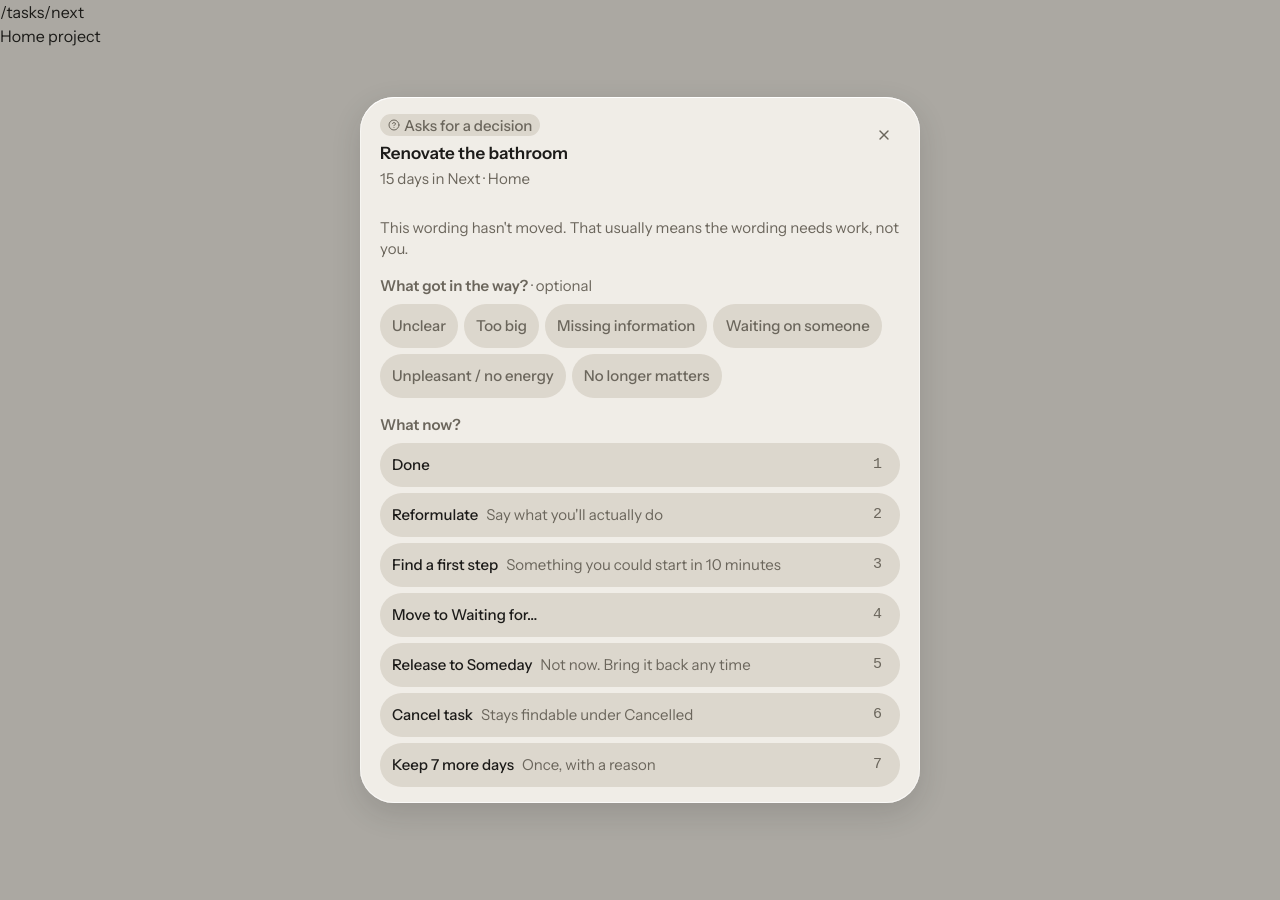
Test: 020-FR-006 decision dialog: the card › 020-FR-007 a reason recommends a decision without disabling any, and a second press clears it
Click the button "Too big": (501, 326) [464,304,539,348]
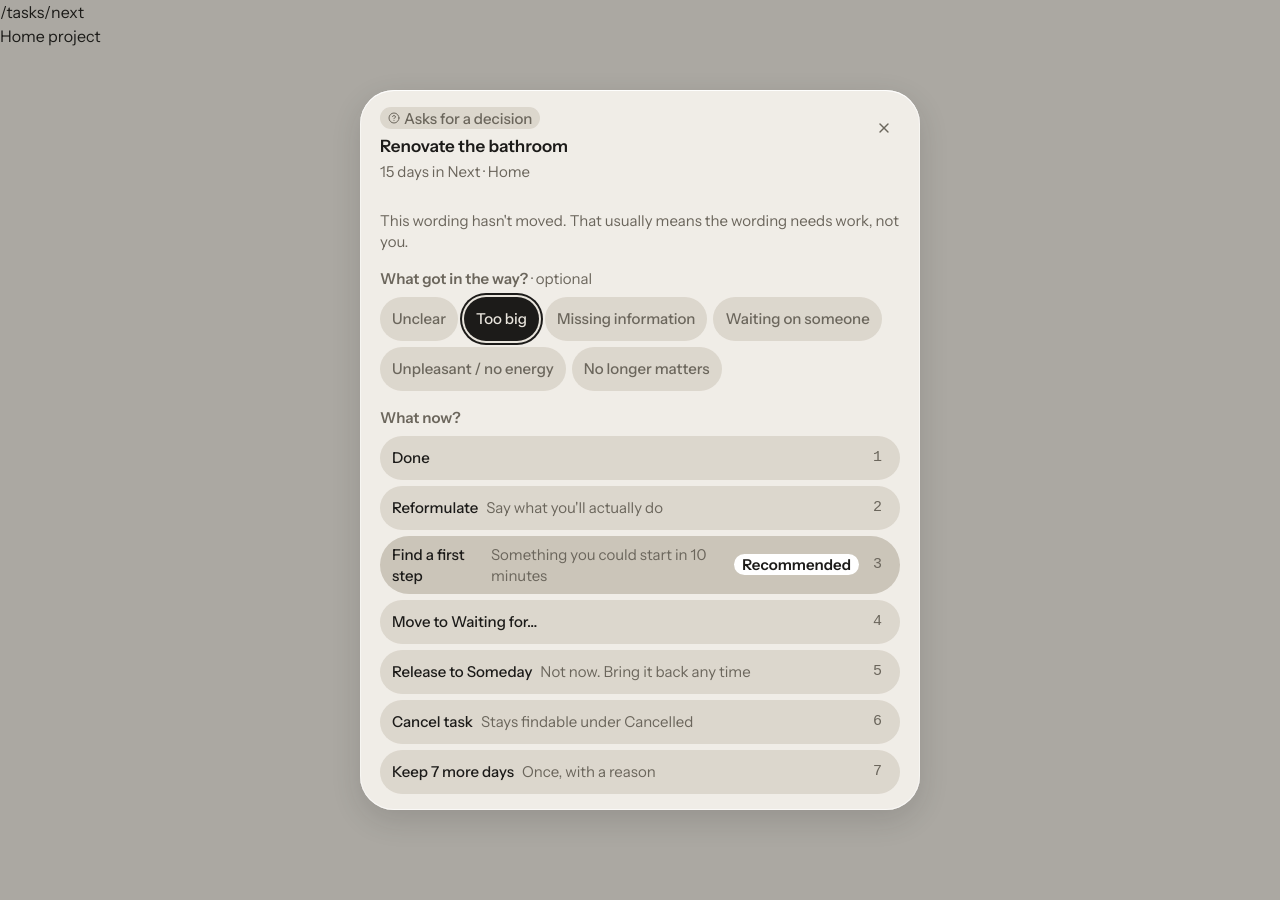
Check: the button "Done 1" is enabled, box [380,436,900,480]
Check: the button "Find a first step" shows "Recommended", box [380,536,900,594]
Check: the text "Recommended" is shown once, box [734,554,859,575]
Click the button "No longer matters": (647, 369) [572,347,722,391]
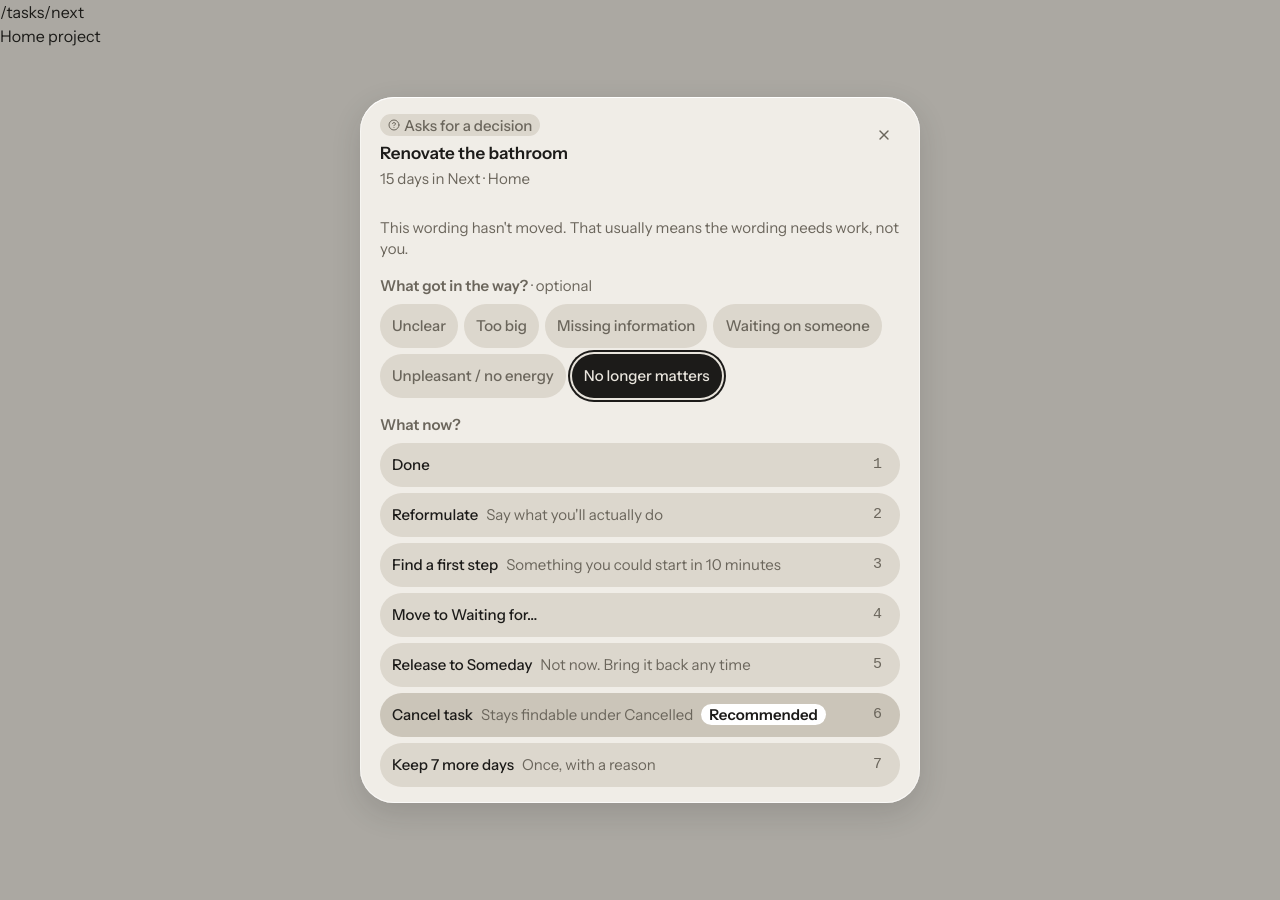
Check: the button "Cancel task Stays findable under Cancelled Recommended 6" is shown, box [380,693,900,737]
Click the button "No longer matters": (647, 376) [572,354,722,398]
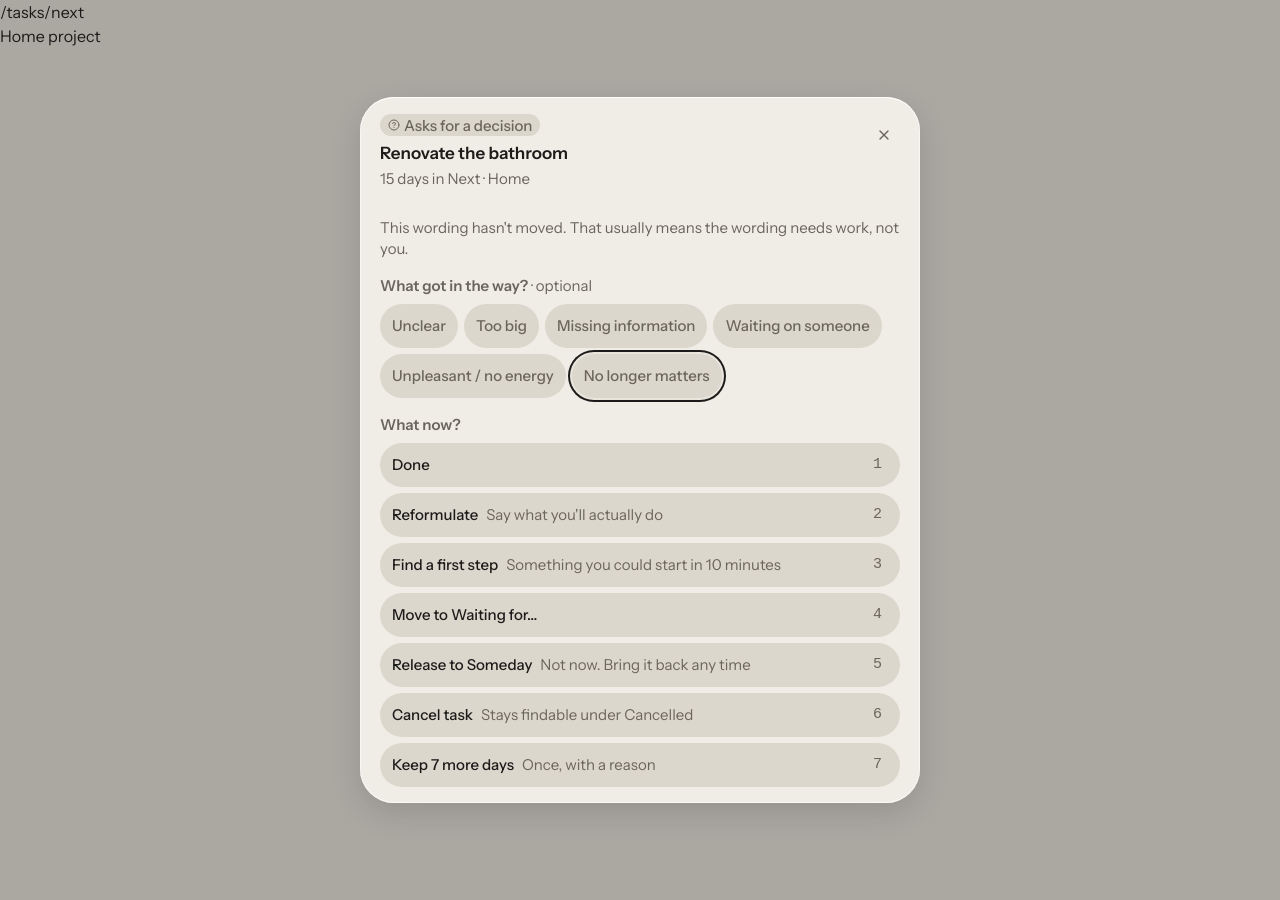
Check: the text "Recommended" is gone
